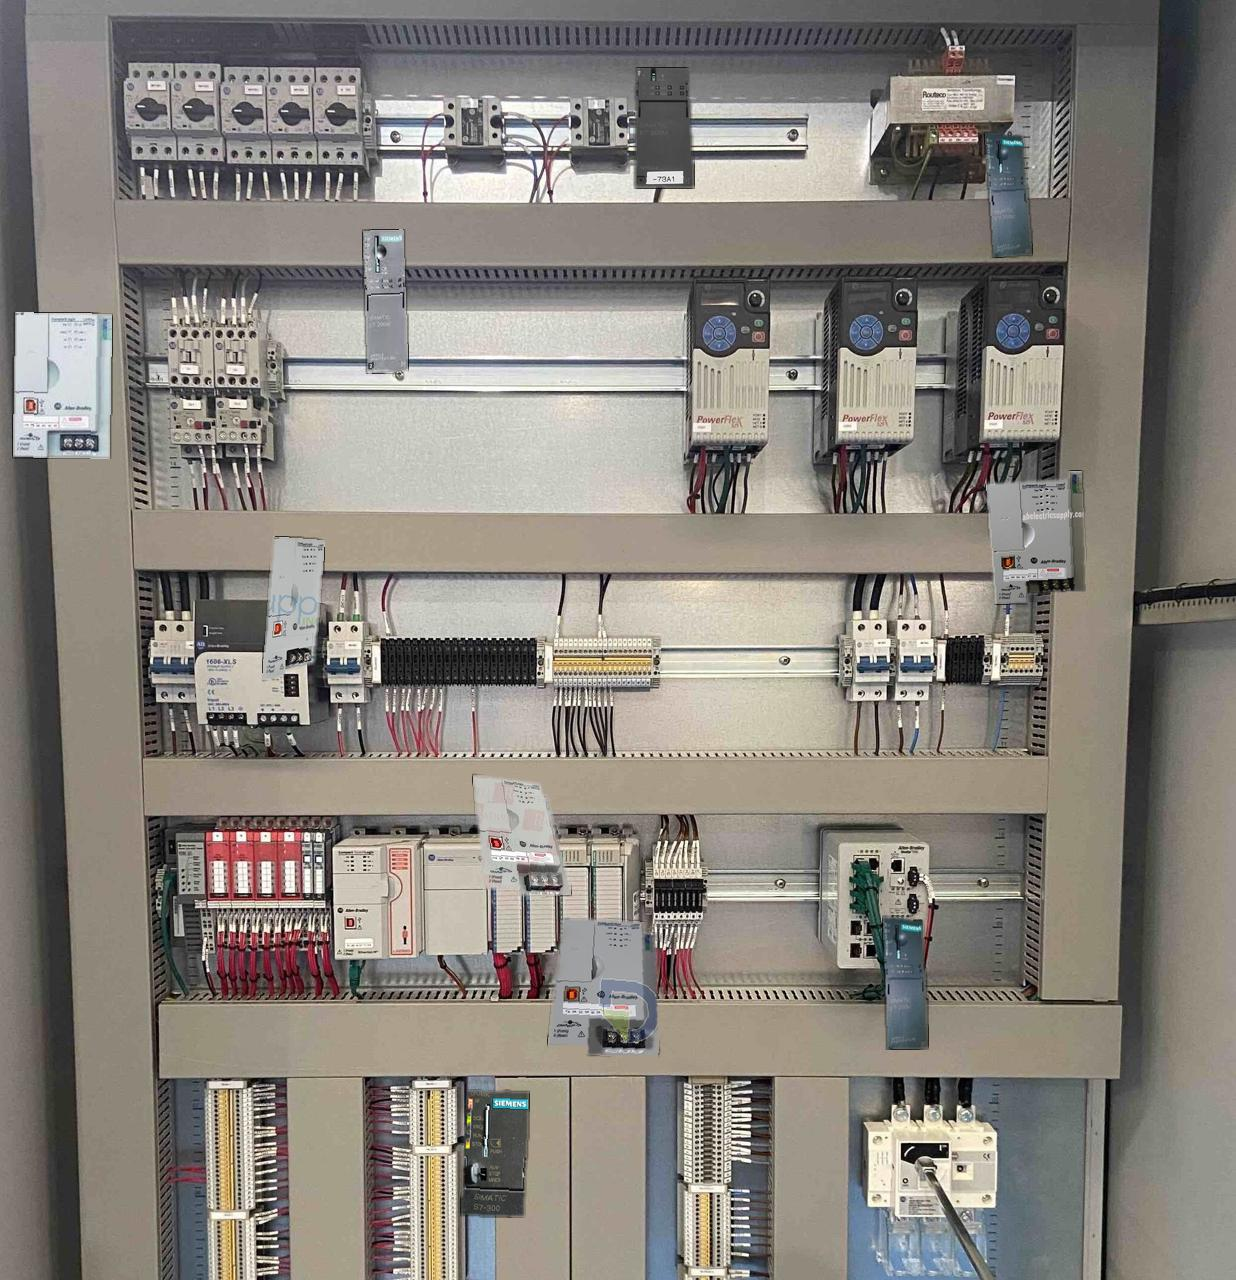AllenBradley: (548, 918, 658, 1055), (13, 312, 111, 457), (986, 471, 1085, 603), (473, 775, 570, 895), (262, 536, 324, 679)
Siemens: (462, 1091, 528, 1216)
